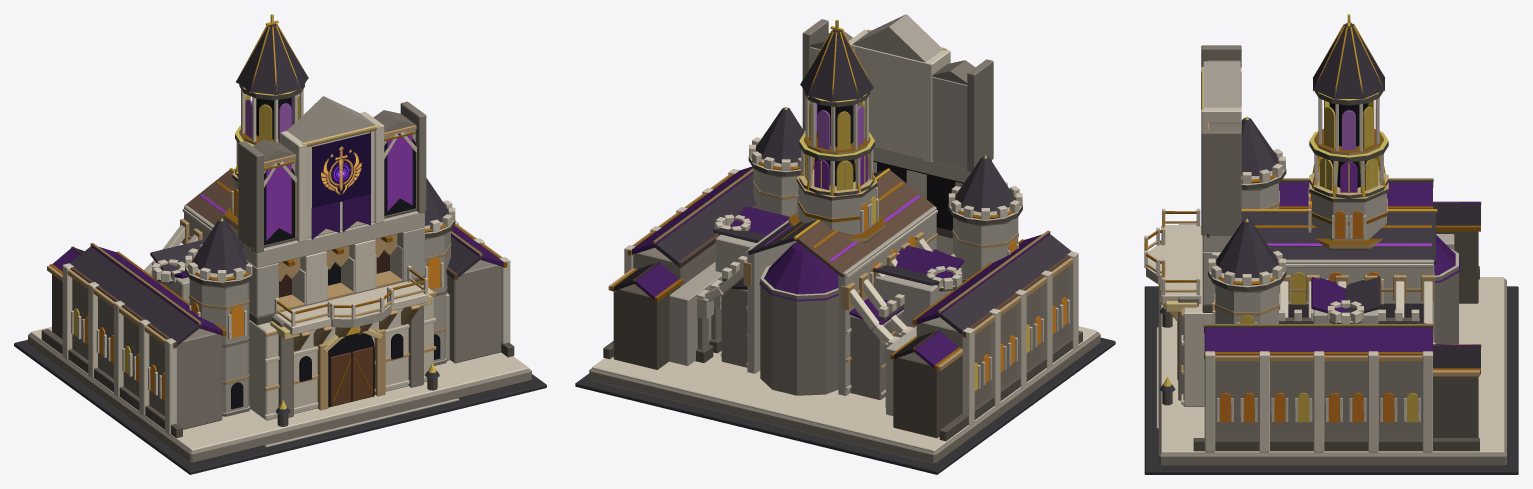
3 renders of one model, left to right at view 1: azimuth 30°, elevation 25°; view 2: azimuth 150°, elevation 25°; view 3: azimuth 270°, elevation 25°, orthographic. The views are drawn at different scales.
Parts seen in each view (by area): view 1: WK_GrandCovenantCathedral_LOD2_Compact_Architecture, WK_GrandCovenantCathedral_LOD2_Compact_CanonicalEmblem; view 2: WK_GrandCovenantCathedral_LOD2_Compact_Architecture; view 3: WK_GrandCovenantCathedral_LOD2_Compact_Architecture.
Boxes of the visible parts, left/top/right/bottom form: WK_GrandCovenantCathedral_LOD2_Compact_Architecture: left=14, top=14, right=546, bottom=474; WK_GrandCovenantCathedral_LOD2_Compact_CanonicalEmblem: left=312, top=133, right=370, bottom=208; WK_GrandCovenantCathedral_LOD2_Compact_Architecture: left=575, top=14, right=1115, bottom=474; WK_GrandCovenantCathedral_LOD2_Compact_Architecture: left=1144, top=14, right=1518, bottom=474.
Size of the model in its own units: 34 by 31.5 by 29.02.
Materials: 2 (1 with a texture image).
